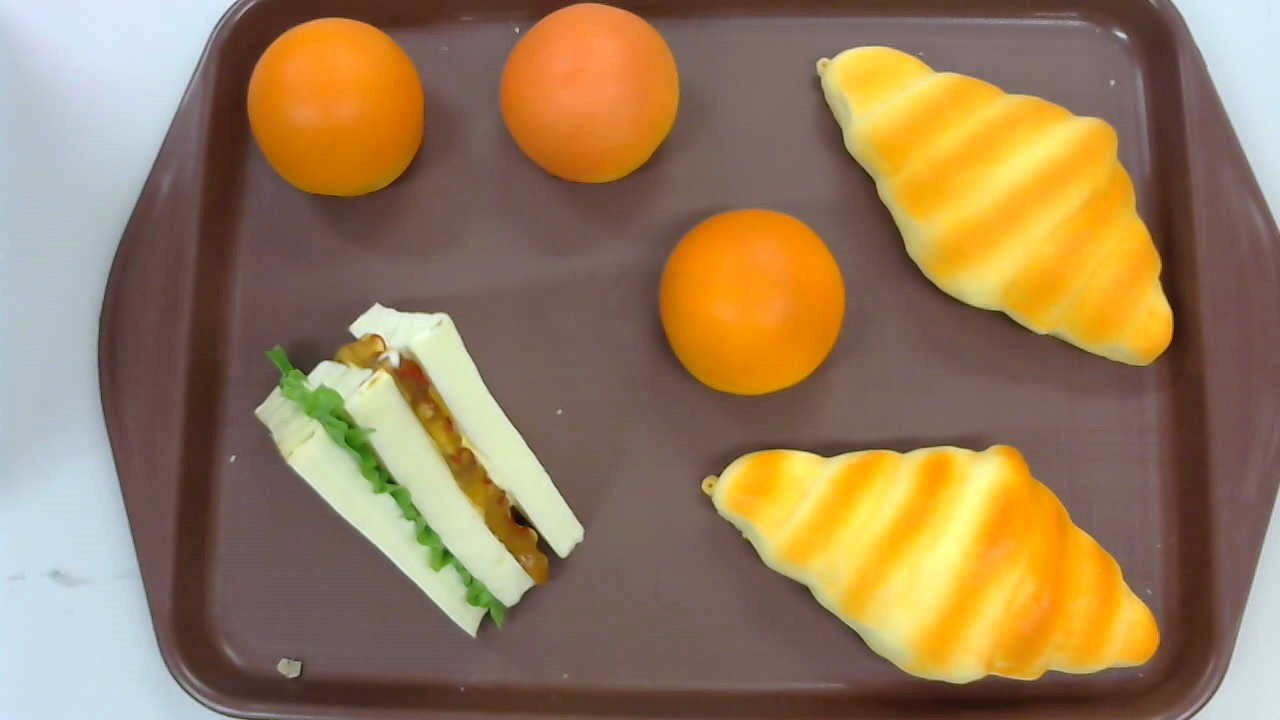bun: (658, 209, 846, 396), (500, 3, 680, 185), (247, 17, 423, 197)
croissant: (816, 44, 1174, 367), (700, 441, 1160, 684)
sandwich: (254, 303, 587, 638)
